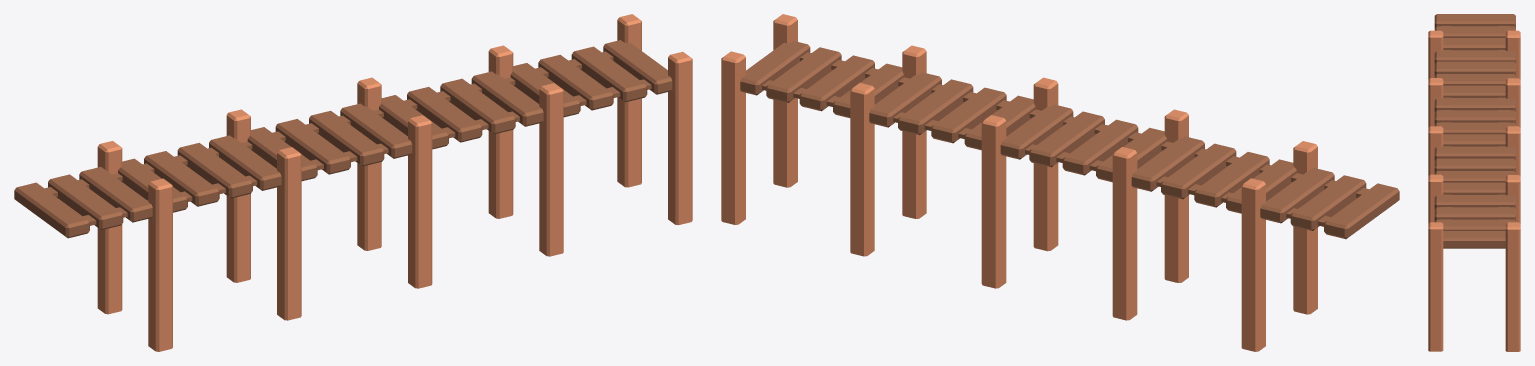
The model's file is Pier.fbx.
3 renders of one model, left to right at view 1: azimuth 30°, elevation 25°; view 2: azimuth 150°, elevation 25°; view 3: azimuth 270°, elevation 25°, orthographic. The views are drawn at different scales.
Parts seen in each view (by area): view 1: Cube.002; view 2: Cube.002; view 3: Cube.002.
Part boxes in pixels (<box>): Cube.002: <box>14,14,692,351</box>; Cube.002: <box>721,14,1399,351</box>; Cube.002: <box>1428,14,1520,351</box>.
Bounding box in the file's own units: 1259 × 317 × 214.
